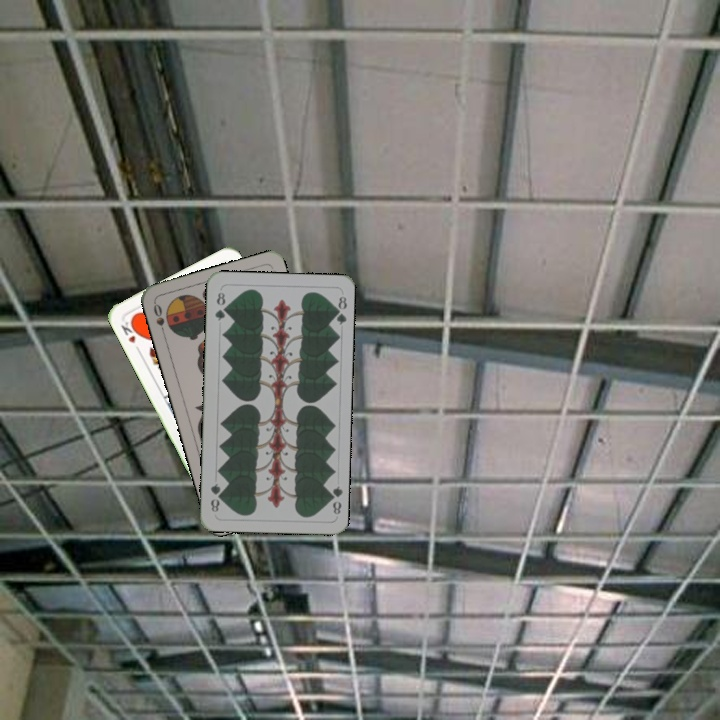G8: (324, 482, 344, 517), (211, 288, 229, 323)
HK: (117, 316, 142, 346)
SO: (149, 299, 168, 339)
